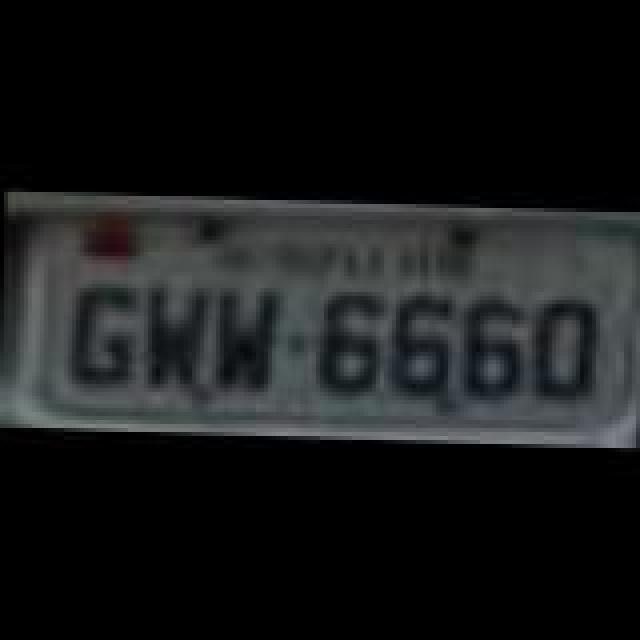6: (450, 288, 526, 400), (314, 290, 390, 398), (386, 288, 454, 400)
G: (68, 280, 140, 392)
O: (530, 294, 598, 402)
W: (206, 284, 282, 396), (138, 278, 206, 394)
